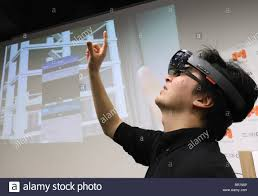hololens: (167, 47, 251, 124)
